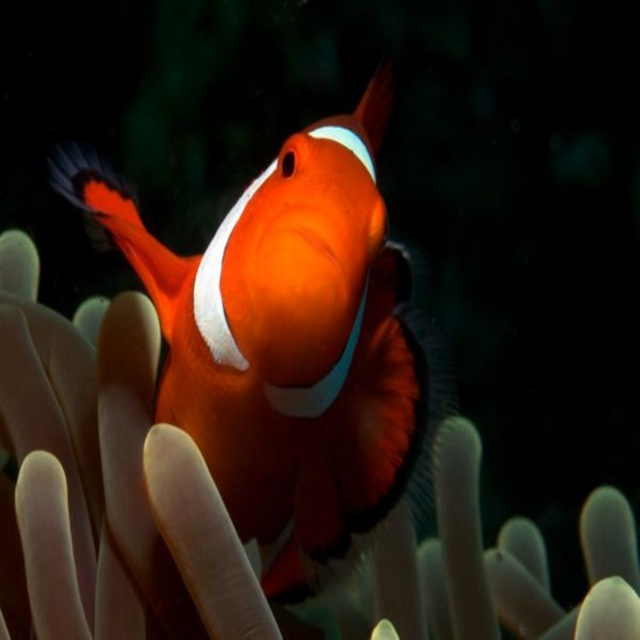Goldfish: (59, 84, 411, 536)
